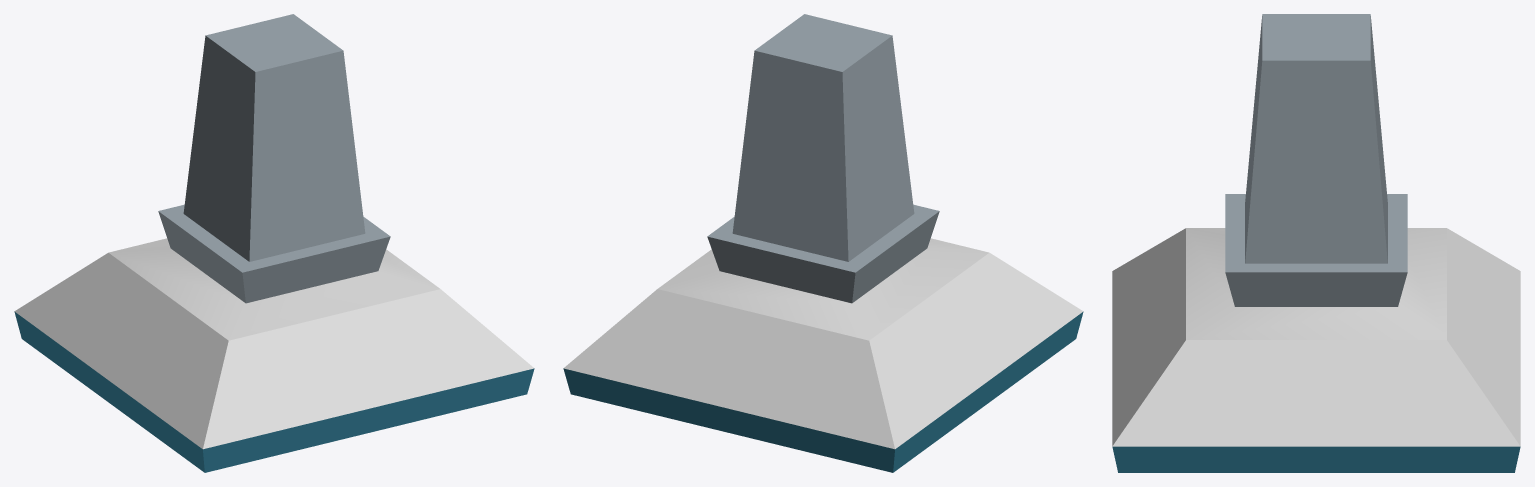
The model's file is 3D_workstation_hotte.fbx.
3 views of the same model, side by side, from view 1: azimuth 30°, elevation 25°; view 2: azimuth 150°, elevation 25°; view 3: azimuth 270°, elevation 25° (orthographic). The views are drawn at different scales.
Visible parts, largest first — view 1: 3D_workstation_gas cooker_plate.001; view 2: 3D_workstation_gas cooker_plate.001; view 3: 3D_workstation_gas cooker_plate.001.
Part boxes in pixels (x1,y1,x2,y2): 3D_workstation_gas cooker_plate.001: (14, 14, 534, 472); 3D_workstation_gas cooker_plate.001: (563, 14, 1083, 472); 3D_workstation_gas cooker_plate.001: (1112, 14, 1520, 472).
Size of the model in its own units: 2.03 by 1.89 by 1.99.
